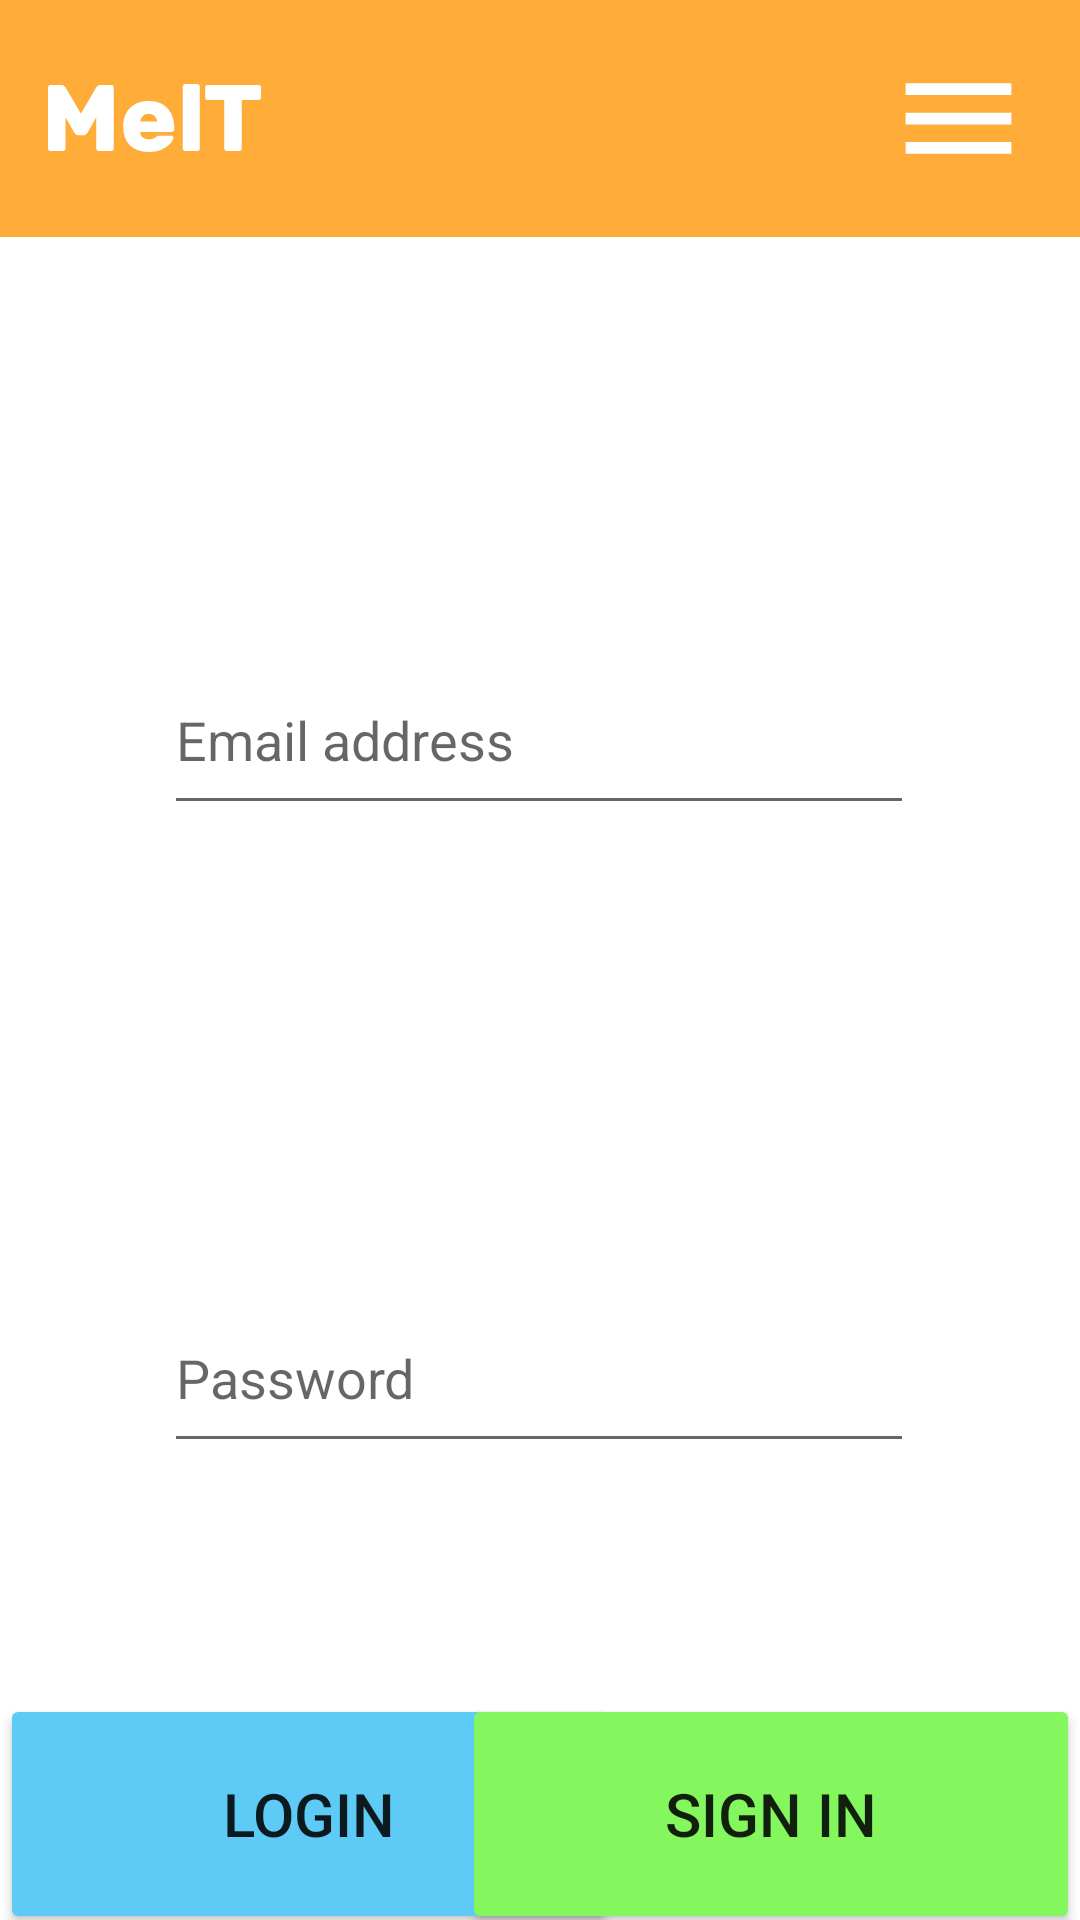

Named icons in this screenshot (1080px×1920px) and their bounding boxes, [x1=x1, y1=y1, x2=x2, y2=y2]:
menu: [x1=905, y1=83, x2=1012, y2=154]
